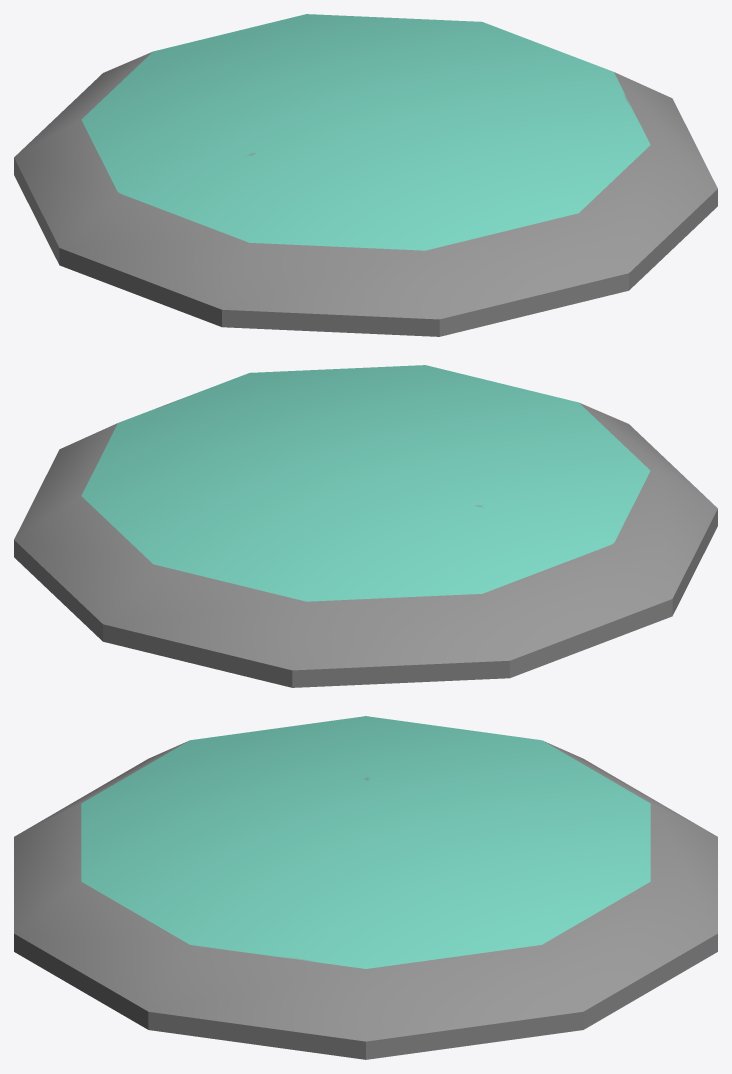
The model's file is GravLift.fbx.
3 renders of one model, top to bottom at view 1: azimuth 30°, elevation 25°; view 2: azimuth 150°, elevation 25°; view 3: azimuth 270°, elevation 25°, orthographic. The views are drawn at different scales.
Parts seen in each view (by area): view 1: pCylinder1; view 2: pCylinder1; view 3: pCylinder1.
Boxes of the visible parts, <box> form: pCylinder1: <box>14,14,717,336</box>; pCylinder1: <box>14,365,717,687</box>; pCylinder1: <box>14,716,717,1059</box>.
Size of the model in its own units: 2.47 by 0.2622 by 2.35.
